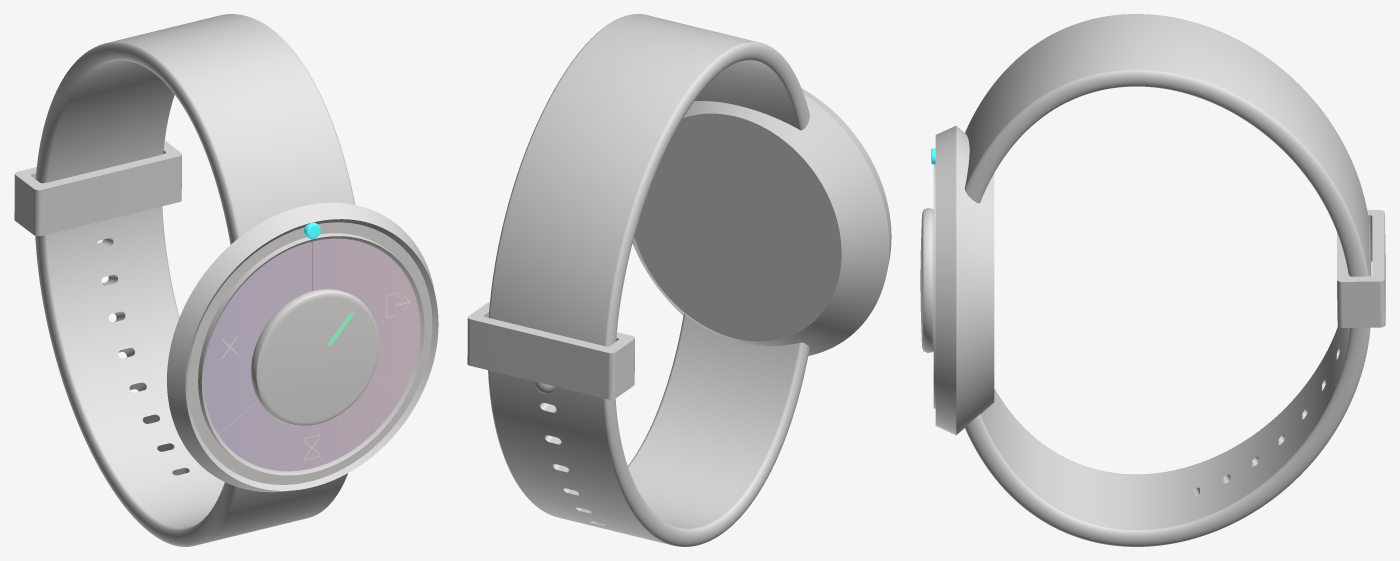
File: product.glb
The picture shows the model from 3 angles, left to right: view 1: azimuth 30°, elevation 25°; view 2: azimuth 150°, elevation 25°; view 3: azimuth 270°, elevation 25°; orthographic projection.
Visible parts, largest first — view 1: Strap_Upper, Strap_Lower, Faceplate, Housing.001, Dial, Keeper; view 2: Housing.001, Strap_Upper, Strap_Lower, Keeper; view 3: Strap_Upper, Strap_Lower, Housing.001, Keeper, Dial.
Boxes of the visible parts, x1,y1,x2,y2 form: Strap_Upper: (35,14,355,244); Strap_Lower: (35,207,347,546); Faceplate: (203,238,420,471); Housing.001: (167,202,438,492); Dial: (251,289,379,425); Keeper: (14,140,181,236); Housing.001: (632,88,891,355); Strap_Upper: (488,14,809,401); Strap_Lower: (488,314,809,546); Keeper: (467,302,634,399); Strap_Upper: (964,14,1370,330); Strap_Lower: (965,224,1371,546); Housing.001: (933,125,994,435); Keeper: (1337,210,1385,327); Dial: (920,208,933,352).
Size of the model in its own units: 0.0439 by 0.0746 by 0.0659.
Materials: 8 (1 with a texture image).
